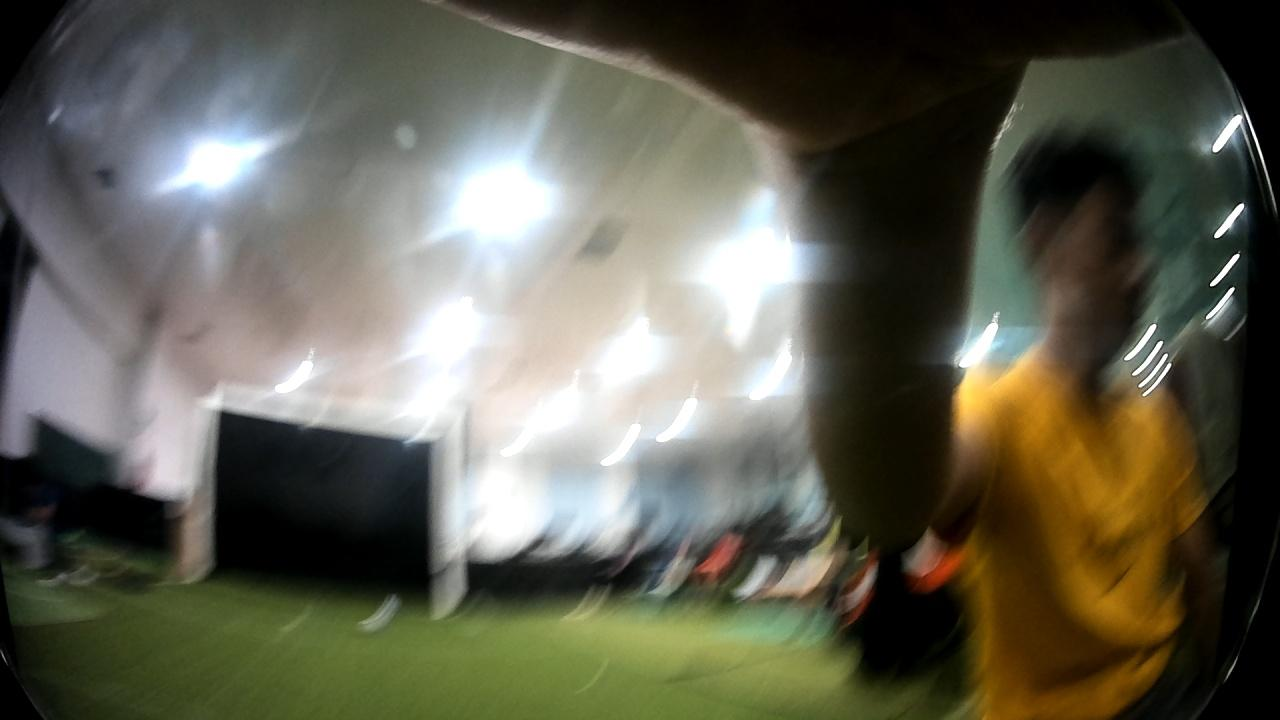ball: (351, 593, 403, 640)
